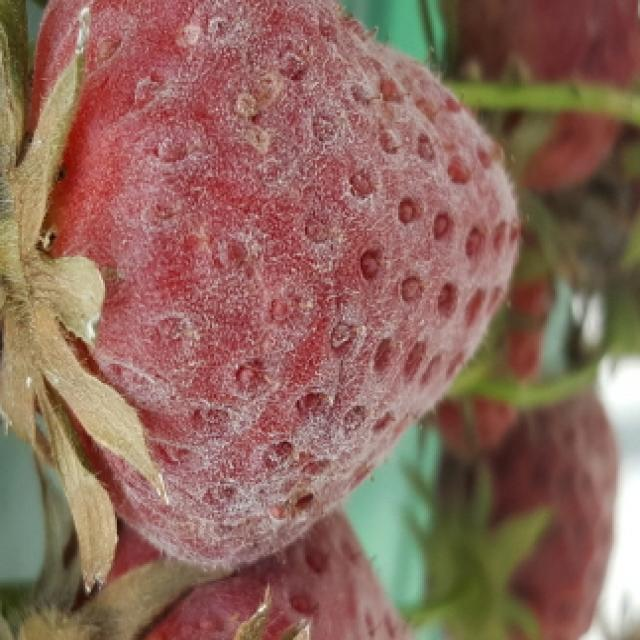Powdery Mildew Fruit: (0, 0, 525, 566), (41, 496, 413, 640)
